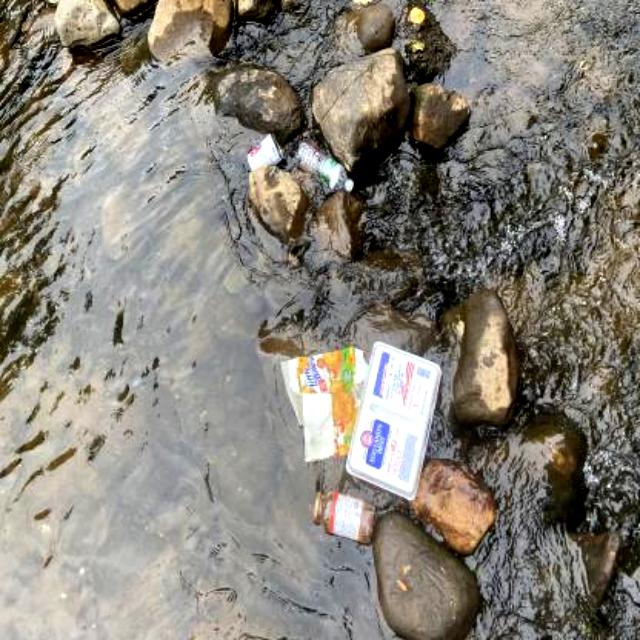Cardboard: (279, 342, 441, 498)
Glass: (311, 487, 381, 548)
Metal: (245, 130, 285, 178)
Plastic: (290, 138, 356, 198)
